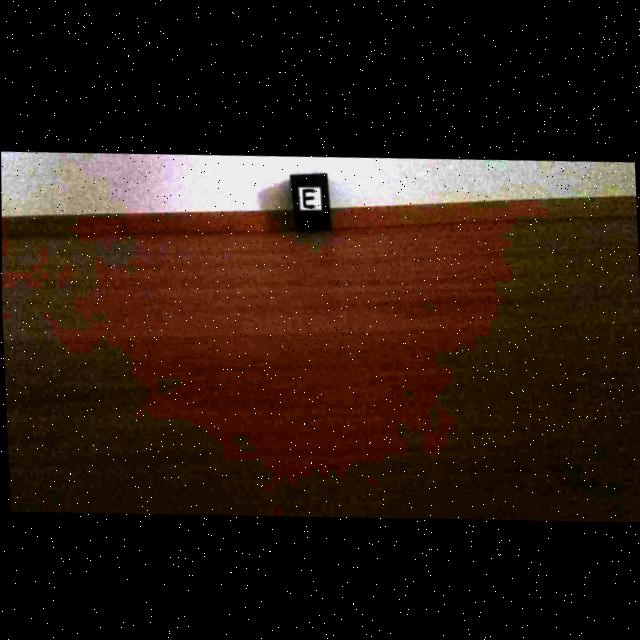E: (302, 186, 315, 204)
